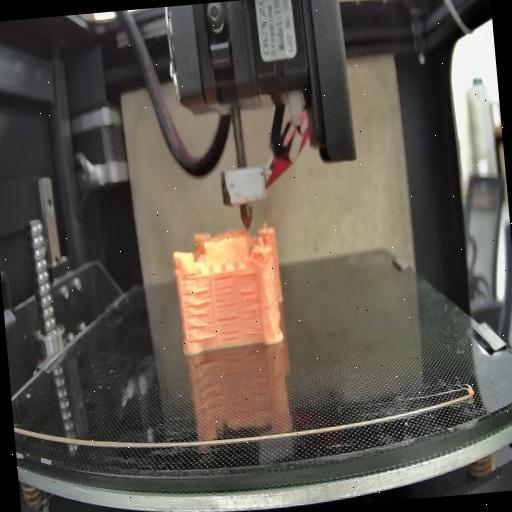cracks: (182, 272, 218, 347), (212, 276, 241, 346), (238, 272, 264, 342)
